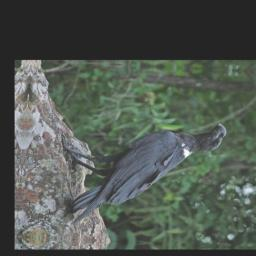Crow: (53, 113, 230, 231)
